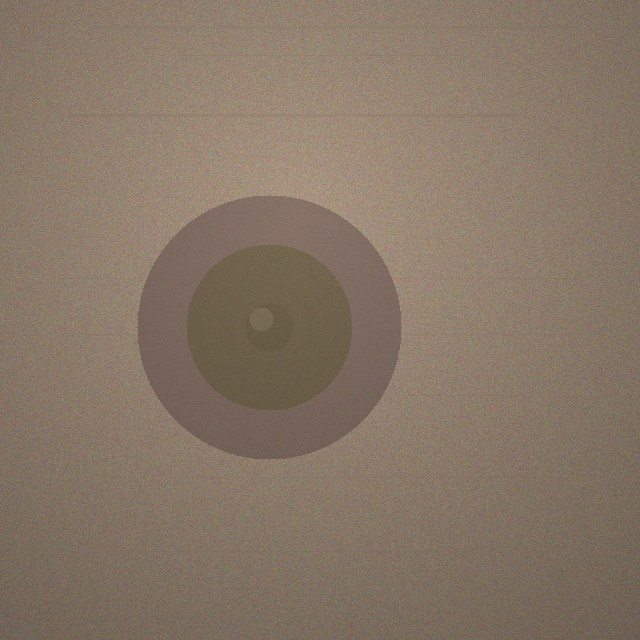good: (137, 195, 401, 459)
